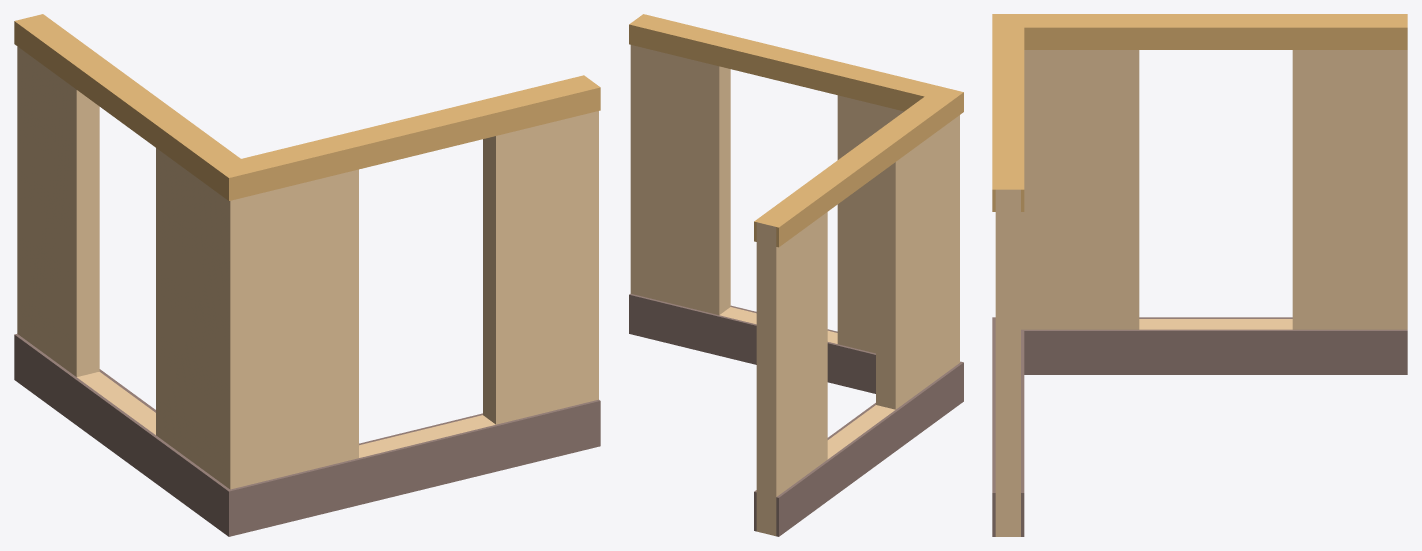
File: Wall06-06.fbx
3 views of the same model, side by side, from view 1: azimuth 30°, elevation 25°; view 2: azimuth 150°, elevation 25°; view 3: azimuth 270°, elevation 25° (orthographic). The views are drawn at different scales.
Visible parts, largest first — view 1: Wall06-06; view 2: Wall06-06; view 3: Wall06-06.
Boxes of the visible parts, x1,y1,x2,y2 form: Wall06-06: [14, 14, 600, 536]; Wall06-06: [629, 14, 963, 536]; Wall06-06: [992, 14, 1407, 536].
Size of the model in its own units: 3.25 by 3.25 by 3.
